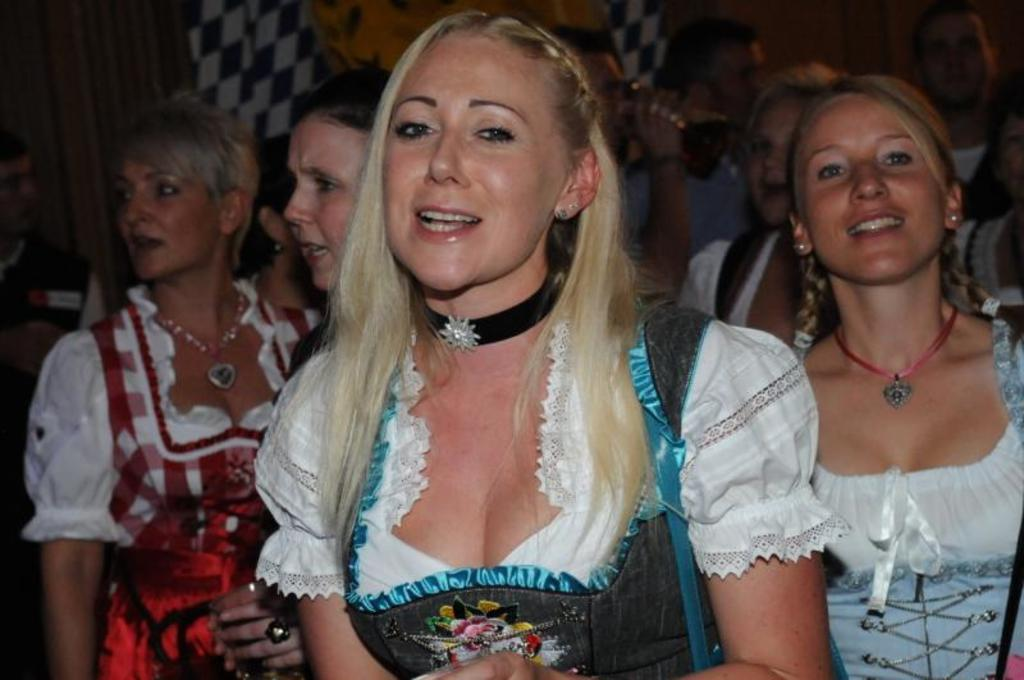Sem Máscara: (377, 39, 562, 288), (800, 100, 942, 287), (272, 109, 369, 289), (114, 155, 218, 279), (738, 88, 801, 232)
